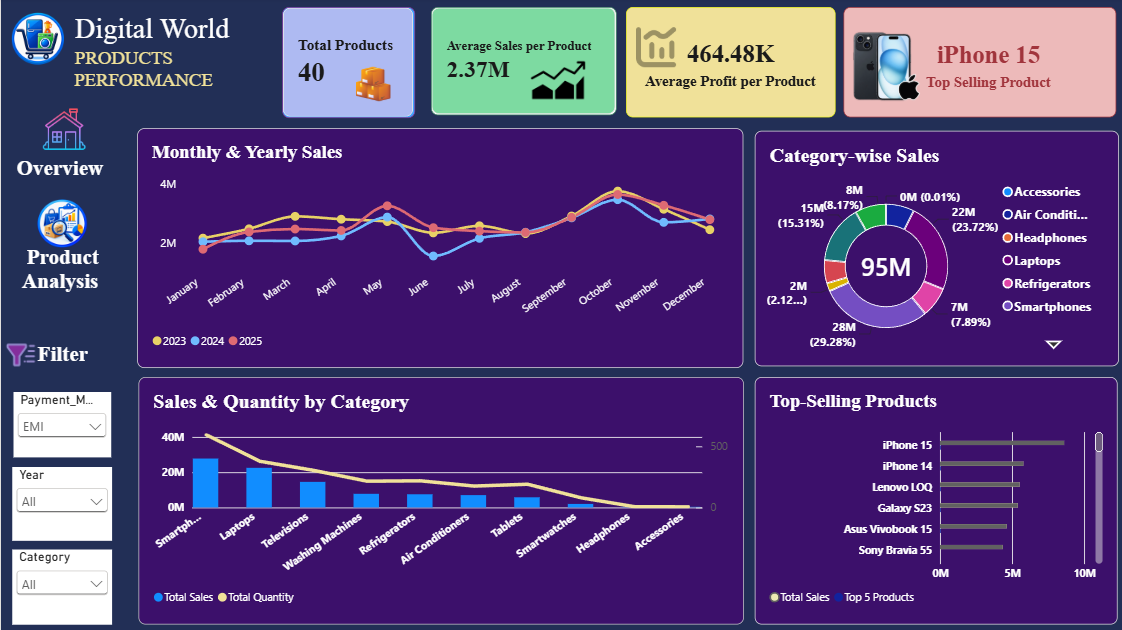

What the dashboard file says about the page in this screenshot:
{"tool":"powerbi","page":{"name":"Product Analysis ","canvas":[1280,720],"ordinal":1},"visuals":[{"type":"cardVisual","fields":{"Data":["Measure.Average Sales per Product"]},"box":[489.8,10.9,211.1,123.1],"z":0},{"type":"card","fields":{"Values":["Measure.Average Profit per Product"]},"box":[711.3,11.5,238.1,125.5],"z":1000},{"type":"card","fields":{"Values":["Measure.Top Selling Product"]},"box":[959.1,12.1,310.1,125.5],"z":2000},{"type":"lineChart","title":"Monthly & Yearly Sales","fields":{"Category":["DateTable.Month"],"Y":["Measure.Total Sales"],"Series":["DateTable.Year"]},"box":[155.6,149.6,689.6,272.7],"z":3000},{"type":"lineClusteredColumnComboChart","title":"Sales & Quantity by Category","fields":{"Y":["Measure.Total Sales"],"Category":["ProductTable.Category"],"Y2":["Measure.Total Quantity"]},"box":[155.8,432.8,689,281.2],"z":4000},{"type":"donutChart","title":"Category-wise Sales","fields":{"Y":["Measure.Total Sales"],"Series":["ProductTable.Category"]},"box":[857,151.5,414.1,268.4],"z":5000},{"type":"clusteredBarChart","title":"Top-Selling Products","fields":{"Category":["Sales_Data.Product_Name"],"Y":["Measure.Total Sales","Measure.Top 5 Products"]},"box":[857,432.8,412.9,281.2],"z":6000},{"type":"textbox","box":[14.5,108.6,112.2,596],"z":7000},{"type":"textbox","box":[72.5,0,254.6,126.6],"z":8000},{"type":"slicer","fields":{"Values":["DateTable.Year"]},"box":[12.8,534.8,113.8,83.9],"z":9000},{"type":"slicer","fields":{"Values":["Sales_Data.Category"]},"box":[12.8,628.6,113.8,85.3],"z":10000},{"type":"slicer","fields":{"Values":["Sales_Data.Payment_Method"]},"box":[14.5,450,111,74.8],"z":11000},{"type":"image","box":[0,15.7,83.9,64],"z":12000},{"type":"image","box":[30.3,124.6,83.6,51.6],"z":13000},{"type":"image","box":[10.7,229.6,116.6,58.3],"z":14000},{"type":"image","box":[2.8,389.7,39.2,35.6],"z":15000},{"type":"image","box":[959.3,10.7,92.5,137],"z":16000},{"type":"cardVisual","fields":{"Data":["Measure.Total Products"]},"box":[319.7,12.1,150.8,126.7],"z":17000},{"type":"image","box":[404.2,74.8,39,47.6],"z":18000},{"type":"image","box":[587.5,62.7,92.9,63.9],"z":19000},{"type":"image","box":[722.7,20.5,45.8,74.8],"z":20000}]}

Visuals, with their boxes in screenshot pixels (x1, y1, x2, y2), scaled from the page's 1280x720 canvas onto the 1122x630 screenshot:
cardVisual - Measure.Average Sales per Product: box=[429, 10, 614, 117]
card - Measure.Average Profit per Product: box=[623, 10, 832, 120]
card - Measure.Top Selling Product: box=[841, 11, 1113, 120]
"Monthly & Yearly Sales" lineChart: box=[136, 131, 741, 370]
"Sales & Quantity by Category" lineClusteredColumnComboChart: box=[137, 379, 741, 625]
"Category-wise Sales" donutChart: box=[751, 133, 1114, 367]
"Top-Selling Products" clusteredBarChart: box=[751, 379, 1113, 625]
textbox: box=[13, 95, 111, 617]
textbox: box=[64, 0, 287, 111]
slicer - DateTable.Year: box=[11, 468, 111, 541]
slicer - Sales_Data.Category: box=[11, 550, 111, 625]
slicer - Sales_Data.Payment_Method: box=[13, 394, 110, 459]
image: box=[0, 14, 74, 70]
image: box=[27, 109, 100, 154]
image: box=[9, 201, 112, 252]
image: box=[2, 341, 37, 372]
image: box=[841, 9, 922, 129]
cardVisual - Measure.Total Products: box=[280, 11, 412, 121]
image: box=[354, 65, 388, 107]
image: box=[515, 55, 596, 111]
image: box=[633, 18, 674, 83]
